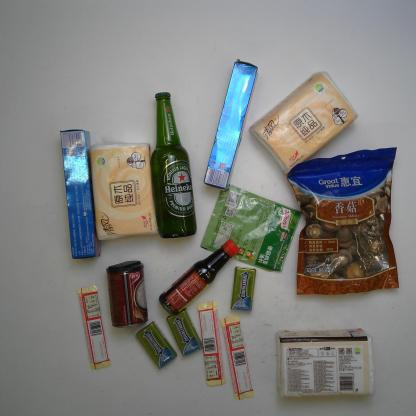Alcohol: (149, 91, 198, 237)
Canned Food: (107, 259, 148, 327)
Chocolate: (77, 284, 116, 371), (220, 316, 254, 401), (197, 301, 226, 387)
Dried Food: (288, 146, 398, 296)
Gum: (136, 320, 176, 368), (167, 308, 204, 357), (230, 266, 256, 312)
Personal Hygiene: (203, 61, 259, 188), (61, 130, 102, 260)
Seasoner: (201, 183, 302, 272), (159, 239, 239, 313)
Tissue: (249, 71, 358, 175), (87, 143, 159, 241), (276, 328, 371, 397)
